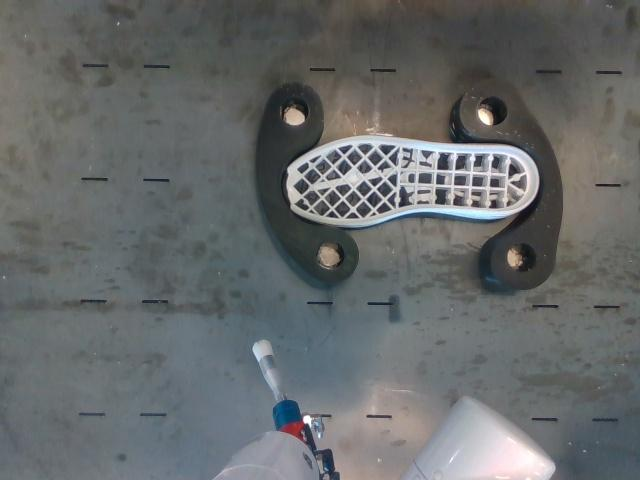shoes: (285, 136, 537, 224)
